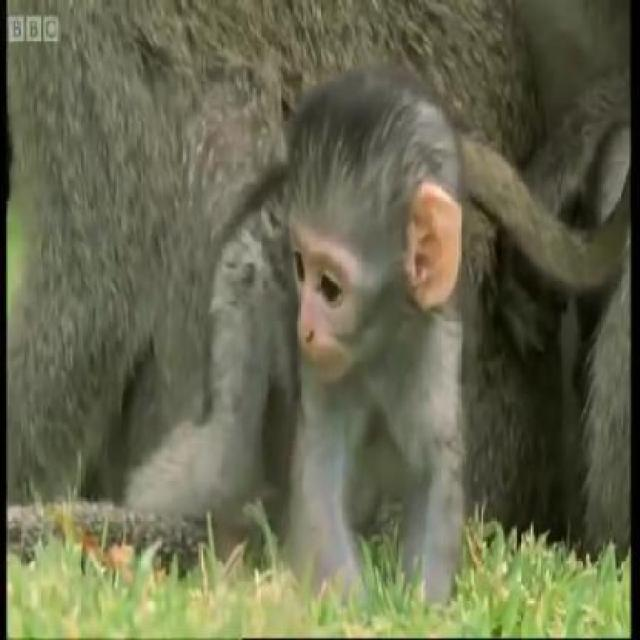Monkey: (150, 63, 478, 634)
